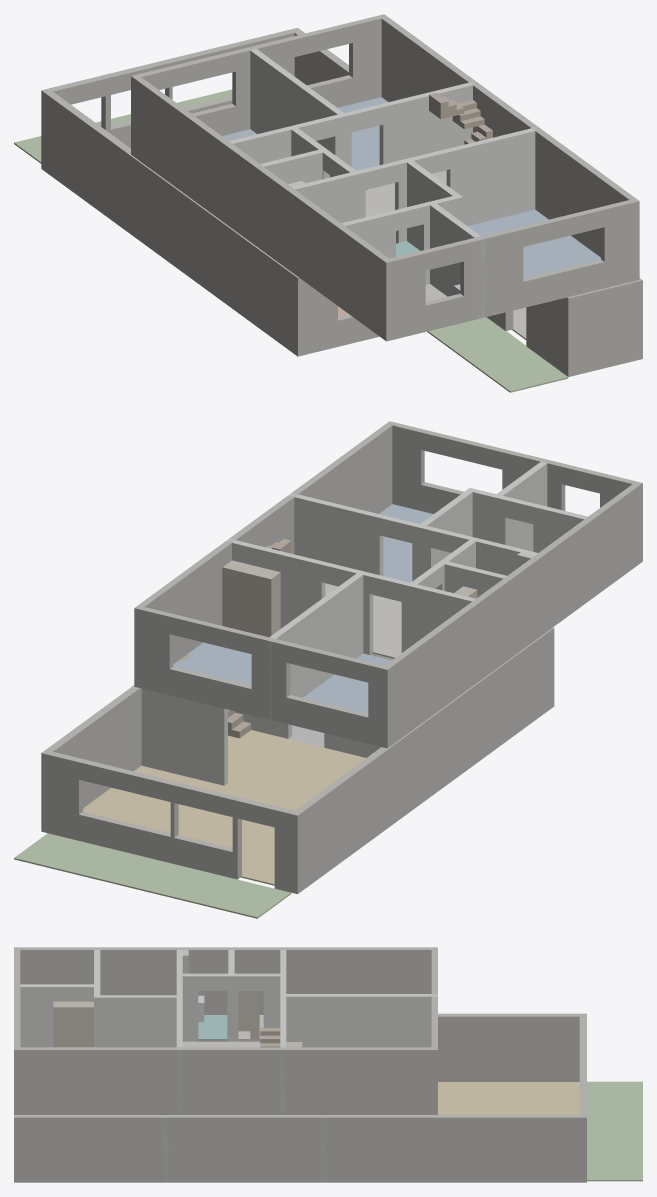
Rendered from PROP_1018.glb.
3 renders of one model, top to bottom at view 1: azimuth 30°, elevation 25°; view 2: azimuth 150°, elevation 25°; view 3: azimuth 270°, elevation 25°, orthographic. The views are drawn at different scales.
Visible parts, largest first — view 1: L1_wall_F1_W0, L0_wall_F0_W5, L1_wall_F1_W3, L1_wall_F1_W2, L1_wall_F1_W5, L1_wall_F1_W1, L1_wall_F1_W4, L0_wall_F0_W2, L0_floor_F0_R0_0, L1_wall_F1_W11, L0_wall_F0_W4, L0_wall_F0_W0 (+13 smaller); view 2: L1_wall_F1_W0, L0_wall_F0_W5, L1_wall_F1_W1, L0_wall_F0_W4, L0_floor_F0_R2_0, L1_wall_F1_W2, L1_wall_F1_W5, L0_floor_F0_R3_0, L1_wall_F1_W4, L1_wall_F1_W3, L0_wall_F0_W12, L1_wall_F1_W11 (+15 smaller); view 3: L0_wall_F0_W3, L1_wall_F1_W2, L1_wall_F1_W0, L0_wall_F0_W5, L1_wall_F1_W11, L0_floor_F0_R3_0, L0_floor_F0_R2_0, L1_wall_F1_W6, L1_wall_F1_W9, L1_wall_F1_W8, L1_fixture_F1_X11, L1_wall_F1_W4 (+10 smaller).
Boxes of the visible parts, x1=… form: L1_wall_F1_W0: x1=131, y1=76, x2=388, y2=340; L0_wall_F0_W5: x1=41, y1=90, x2=298, y2=356; L1_wall_F1_W3: x1=386, y1=200, x2=639, y2=341; L1_wall_F1_W2: x1=381, y1=14, x2=638, y2=257; L1_wall_F1_W5: x1=292, y1=127, x2=536, y2=242; L1_wall_F1_W1: x1=132, y1=14, x2=383, y2=135; L1_wall_F1_W4: x1=229, y1=82, x2=475, y2=185; L0_wall_F0_W2: x1=568, y1=280, x2=642, y2=376; L0_floor_F0_R0_0: x1=427, y1=317, x2=568, y2=392; L1_wall_F1_W11: x1=250, y1=49, x2=348, y2=177; L0_wall_F0_W4: x1=42, y1=28, x2=297, y2=148; L0_wall_F0_W0: x1=298, y1=277, x2=379, y2=356; L1_wall_F1_W0: x1=385, y1=483, x2=642, y2=747; L0_wall_F0_W5: x1=295, y1=628, x2=554, y2=893; L1_wall_F1_W1: x1=134, y1=607, x2=387, y2=748; L0_wall_F0_W4: x1=41, y1=751, x2=297, y2=893; L0_floor_F0_R2_0: x1=83, y1=730, x2=365, y2=885; L1_wall_F1_W2: x1=135, y1=421, x2=392, y2=663; L1_wall_F1_W5: x1=288, y1=493, x2=537, y2=596; L0_floor_F0_R3_0: x1=14, y1=833, x2=291, y2=918; L1_wall_F1_W4: x1=226, y1=538, x2=475, y2=654; L1_wall_F1_W3: x1=390, y1=421, x2=642, y2=513; L0_wall_F0_W12: x1=141, y1=688, x2=227, y2=785; L1_wall_F1_W11: x1=265, y1=573, x2=365, y2=719; L0_wall_F0_W3: x1=14, y1=1114, x2=586, y2=1182; L1_wall_F1_W2: x1=14, y1=1047, x2=437, y2=1114; L1_wall_F1_W0: x1=15, y1=947, x2=436, y2=1014; L0_wall_F0_W5: x1=198, y1=1013, x2=586, y2=1081; L1_wall_F1_W11: x1=280, y1=994, x2=437, y2=1047; L0_floor_F0_R3_0: x1=587, y1=1081, x2=642, y2=1181; L0_floor_F0_R2_0: x1=438, y1=1082, x2=579, y2=1114; L1_wall_F1_W6: x1=94, y1=995, x2=176, y2=1047; L1_wall_F1_W9: x1=178, y1=973, x2=280, y2=1041; L1_wall_F1_W8: x1=20, y1=984, x2=93, y2=1047; L1_fixture_F1_X11: x1=53, y1=1001, x2=81, y2=1047; L1_wall_F1_W4: x1=280, y1=950, x2=286, y2=1114.
Size of the model in its own units: 9.22 by 5.55 by 23.6.
